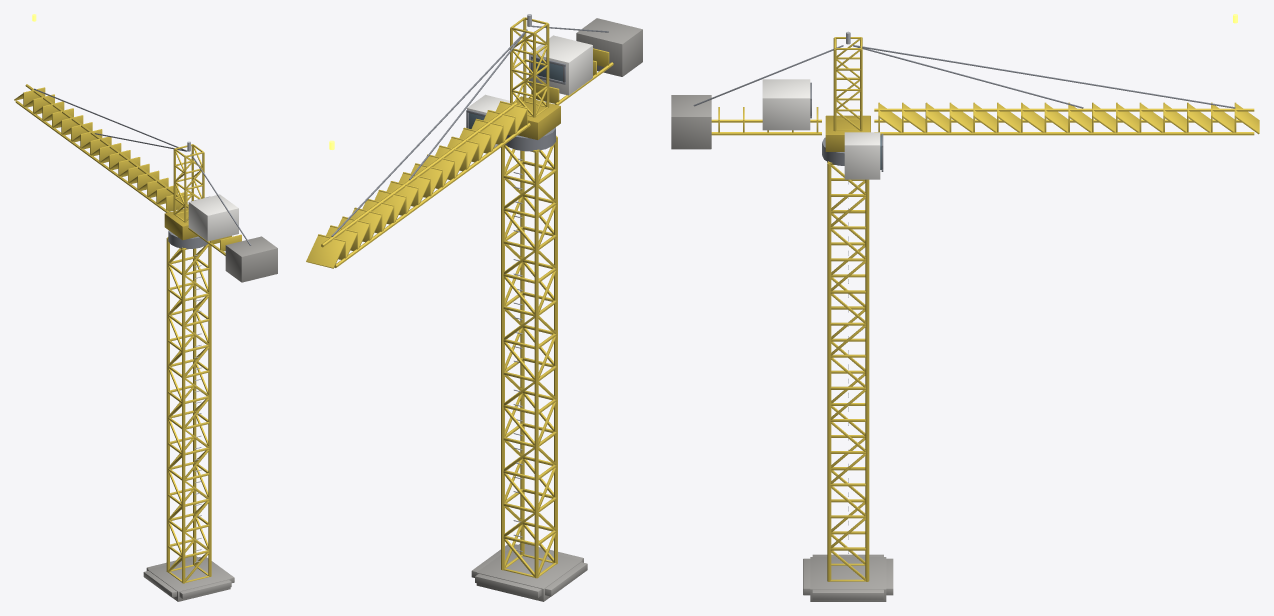
File: th46_baukran.glb
The picture shows the model from 3 angles, left to right: view 1: azimuth 30°, elevation 25°; view 2: azimuth 150°, elevation 25°; view 3: azimuth 270°, elevation 25°; orthographic projection. The views are drawn at different scales.
Visible parts, largest first — view 1: Cube.216, Cube.217, Cube.108, Cylinder, Cylinder.002, Cylinder.001, Cylinder.003, Cube.141, Cylinder.010, Cylinder.012, Cube.110, Cylinder.004; view 2: Cube.216, Cube.108, Cylinder.001, Cube.217, Cylinder.003, Cylinder, Cylinder.002, Cube.141, Cylinder.012, Cylinder.010, Cube.209, Cube.112 (+4 smaller); view 3: Cube.217, Cube.108, Cube.216, Cylinder.002, Cylinder.003, Cube.226, Cylinder.011, Cylinder.012, Cube.141, Cube.224, Cube.111.
Boxes of the visible parts, x1,y1,x2,y2 form: Cube.216: (225,236,277,282); Cube.217: (188,194,238,241); Cube.108: (147,557,230,601); Cylinder: (182,249,185,583); Cylinder.002: (208,244,211,576); Cylinder.001: (166,237,169,572); Cylinder.003: (193,248,196,564); Cube.141: (164,207,197,240); Cylinder.010: (15,100,169,212); Cylinder.012: (25,84,179,196); Cube.110: (179,580,231,598); Cylinder.004: (168,230,207,248); Cube.216: (576,18,642,76); Cube.108: (476,544,582,601); Cylinder.001: (534,151,538,578); Cube.217: (529,35,592,95); Cylinder.003: (501,145,504,570); Cylinder: (554,136,557,564); Cylinder.002: (520,150,524,554); Cube.141: (513,96,560,139); Cylinder.012: (321,102,517,247); Cylinder.010: (334,123,530,267); Cube.209: (306,235,345,268); Cube.112: (475,574,541,597); Cube.217: (762,79,810,130); Cube.108: (810,557,886,601); Cube.216: (671,95,711,149); Cylinder.002: (827,163,831,581); Cylinder.003: (865,179,869,581); Cube.226: (844,132,880,179); Cylinder.011: (874,132,1254,135); Cylinder.012: (874,108,1254,111); Cube.141: (825,115,870,151); Cube.224: (853,45,1235,108); Cube.111: (812,589,883,599).
Size of the model in its own units: 4.1 by 26.52 by 24.77.
